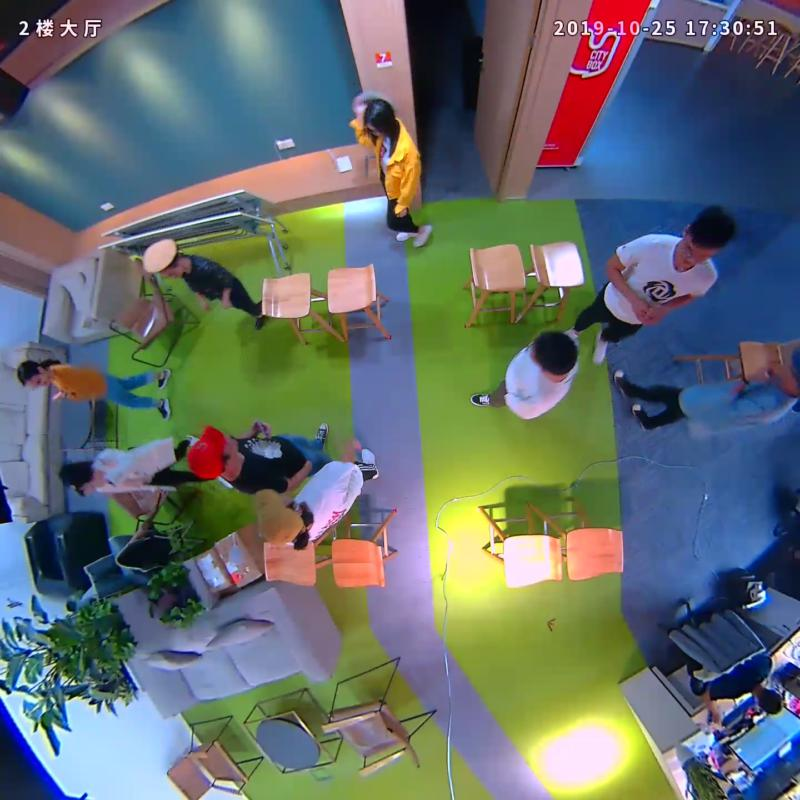head: (673, 204, 735, 270), (186, 422, 239, 481), (251, 488, 304, 545), (528, 331, 577, 376), (141, 239, 185, 281), (57, 460, 101, 495), (364, 99, 396, 136), (16, 359, 51, 388)
